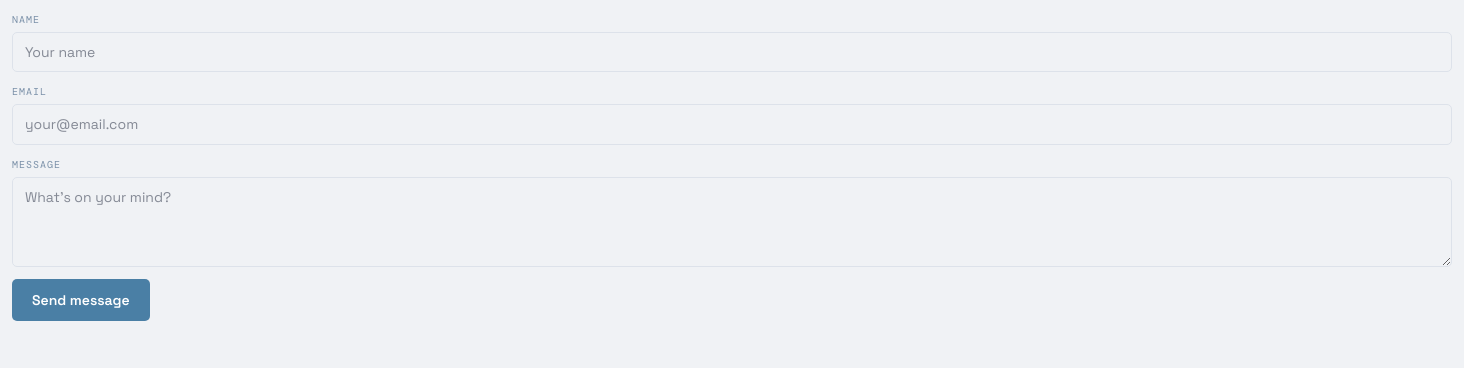
Test: ContactForm › form submission › shows the server error message from a non-OK response body
The image size is (1464, 368).
Type "Andrew" into the field labelled "Name" at (732, 52), box [12,32,1452,72]
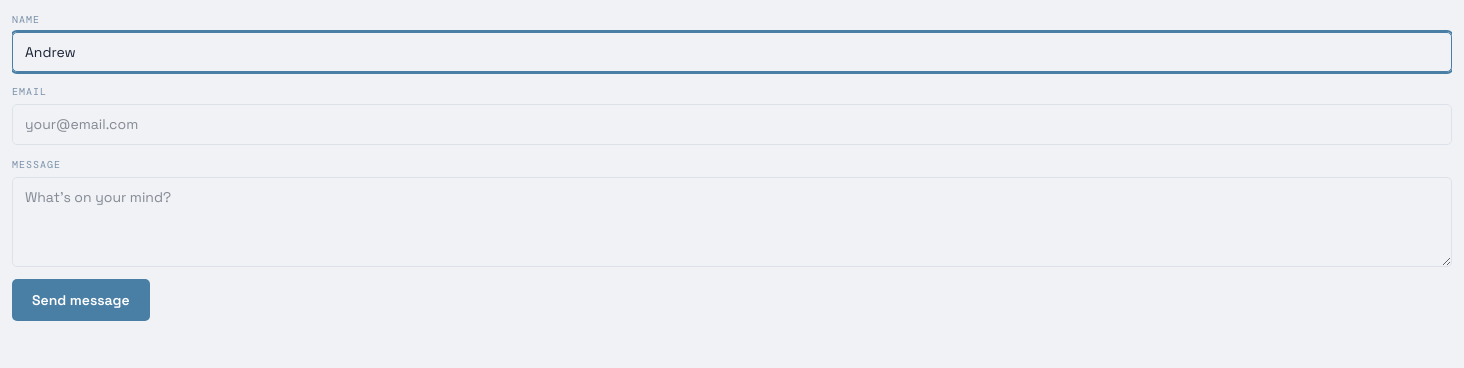
Type "andrew@example.org" into the field labelled "Email" at (732, 125), box [12,104,1452,145]
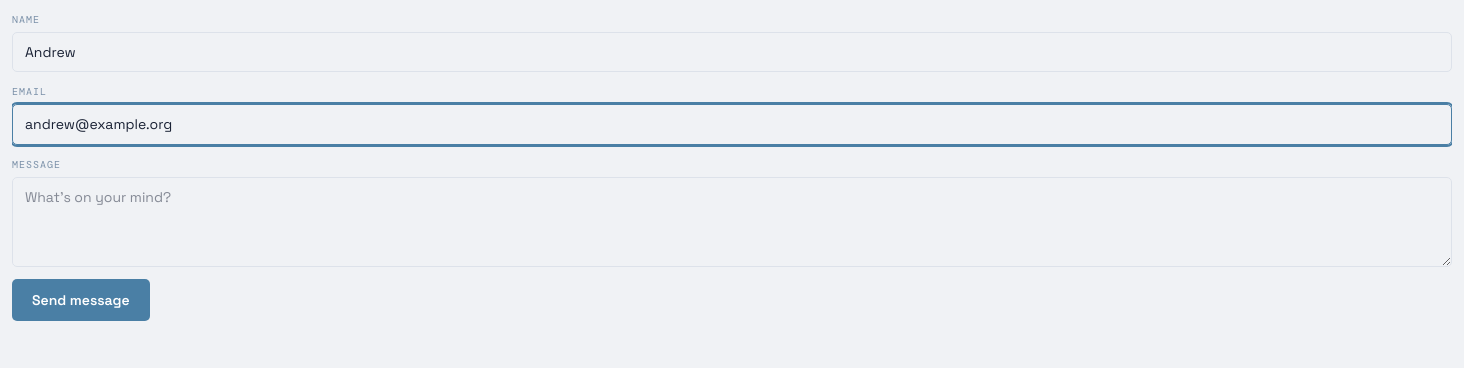
Type "Hello this is a test message" into the text box labelled "Message" at (732, 222), box [12,177,1452,267]
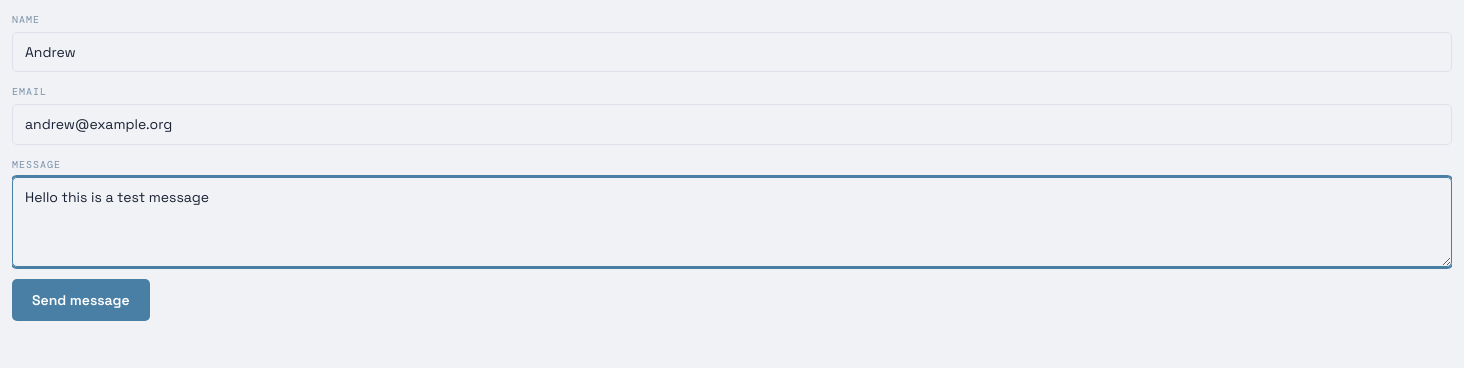
Click the button "Send message" at (81, 300), box [12,279,150,321]
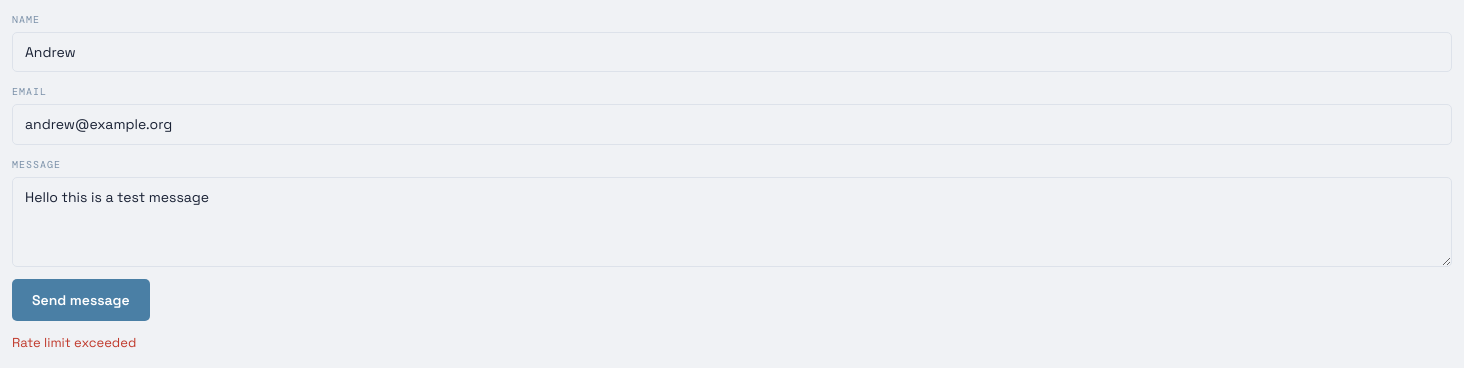
Check: the text "Rate limit exceeded" is shown, box [12,334,136,351]
